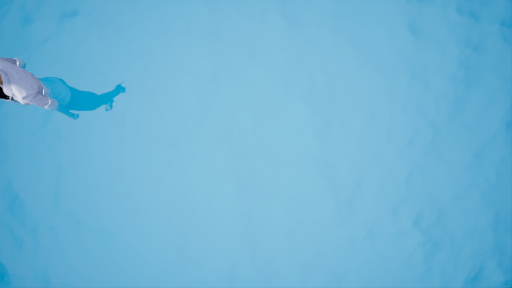person: (1, 53, 123, 126)
